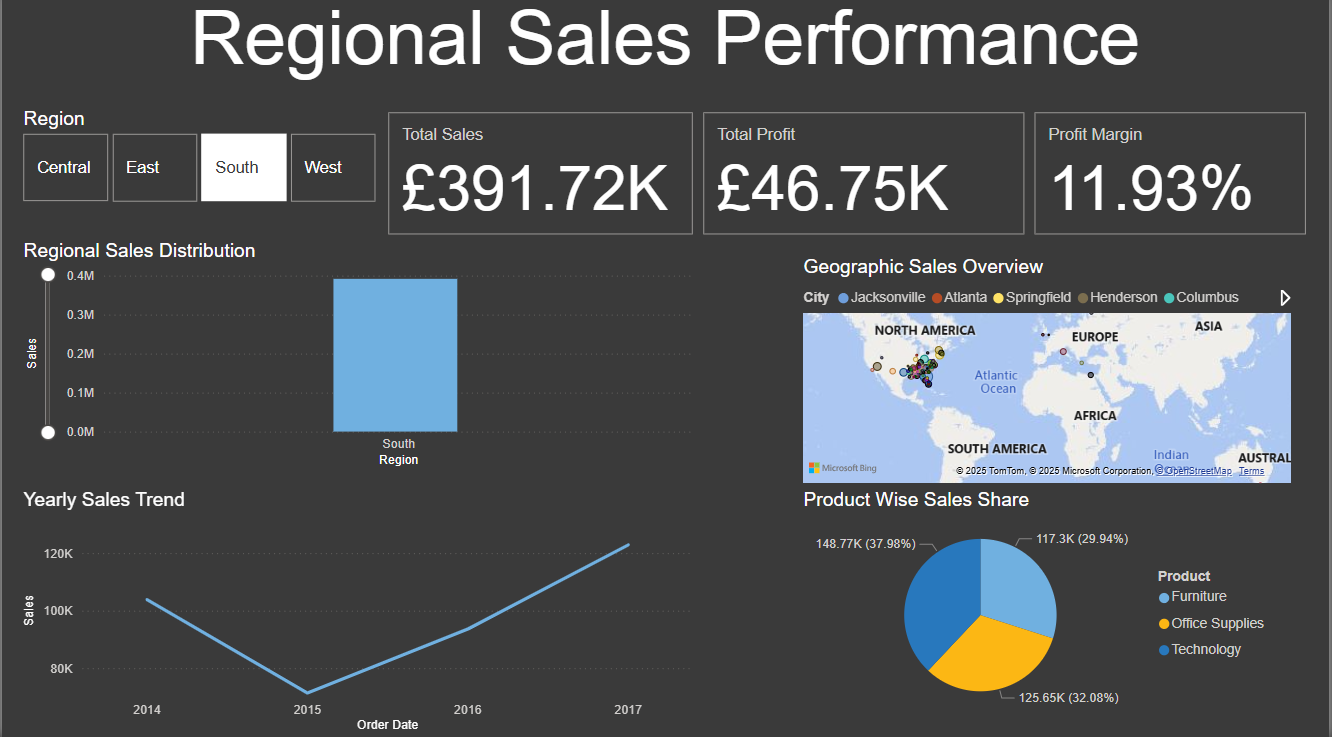

The dashboard page shown, as its layout file describes it:
{"tool":"powerbi","page":{"name":"Sales Performance Dashboard","canvas":[1280,720],"ordinal":0},"visuals":[{"type":"group","id":"g1","title":"Group 1","box":[368,112,896,336],"z":0},{"type":"cardVisual","fields":{"Data":["Sample_ Superstore.Total Sales"]},"box":[368,112,304,128],"z":0,"group":"g2"},{"type":"cardVisual","fields":{"Data":["Sample_ Superstore.Total Profit"]},"box":[672,112,320,128],"z":1000,"group":"g2"},{"type":"columnChart","title":" Regional Sales Distribution","fields":{"Category":["Sample_ Superstore.Region"],"Y":["Sum(Sample_ Superstore.Sales)"]},"box":[16,240,656,224],"z":1000},{"type":"cardVisual","fields":{"Data":["Sample_ Superstore.Profit Margin"]},"box":[992,112,272,128],"z":2000,"group":"g2"},{"type":"pieChart","title":"Product Wise Sales Share","fields":{"Y":["Sum(Sample_ Superstore.Sales)"],"Series":["Sample_ Superstore.Category"]},"box":[768,480,464,224],"z":2000},{"type":"group","id":"g2","title":"Group 4","box":[368,112,896,128],"z":2002,"group":"g1"},{"type":"textbox","box":[0,0,1280,96],"z":3000},{"type":"textbox","box":[400,290.8,254.6,157.2],"z":3000,"group":"g1"},{"type":"lineChart","title":"Yearly Sales Trend","fields":{"Y":["Sum(Sample_ Superstore.Sales)"],"Category":["Sample_ Superstore.Order Date"]},"box":[16,480,656,240],"z":4000},{"type":"map","title":"Geographic Sales Overview","fields":{"Category":["Sample_ Superstore.City"],"Size":["Sum(Sample_ Superstore.Sales)"],"Series":["Sample_ Superstore.City"]},"box":[768,256,480,224],"z":5000},{"type":"advancedSlicerVisual","fields":{"Values":["Sample_ Superstore.Region"]},"box":[32,112,336,96],"z":6000}]}

Visuals, with their boxes in screenshot pixels (x1, y1, x2, y2), scaled from the page's 1280x720 canvas onto the 1332x737 screenshot:
"Group 1" group: select_region(383, 115, 1315, 459)
cardVisual - Sample_ Superstore.Total Sales: select_region(383, 115, 699, 246)
cardVisual - Sample_ Superstore.Total Profit: select_region(699, 115, 1032, 246)
" Regional Sales Distribution" columnChart: select_region(17, 246, 699, 475)
cardVisual - Sample_ Superstore.Profit Margin: select_region(1032, 115, 1315, 246)
"Product Wise Sales Share" pieChart: select_region(799, 491, 1282, 721)
"Group 4" group: select_region(383, 115, 1315, 246)
textbox: select_region(0, 0, 1331, 98)
textbox: select_region(416, 298, 681, 459)
"Yearly Sales Trend" lineChart: select_region(17, 491, 699, 736)
"Geographic Sales Overview" map: select_region(799, 262, 1299, 491)
advancedSlicerVisual - Sample_ Superstore.Region: select_region(33, 115, 383, 213)
